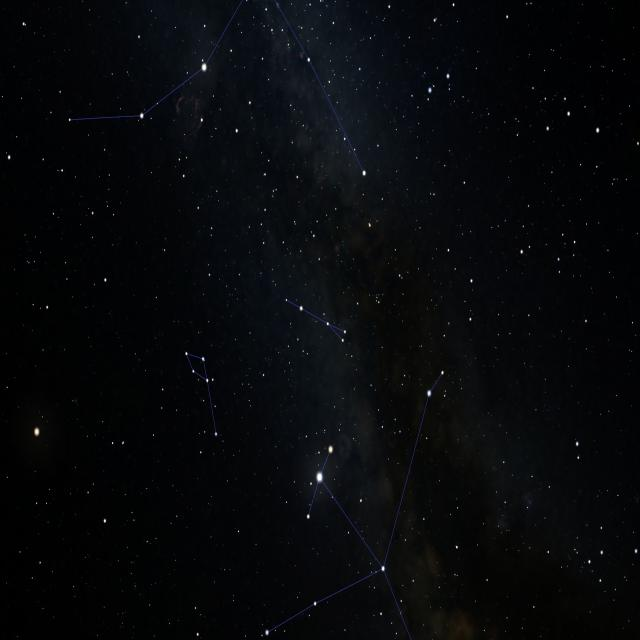Sagitta: (284, 294, 353, 348)
